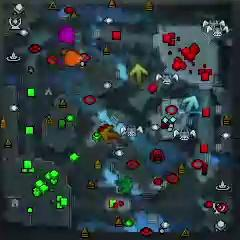p3: (57, 25, 76, 46)
p5: (63, 48, 83, 68)
x2: (130, 63, 147, 84)
x3: (183, 96, 198, 112)
x4: (116, 176, 134, 194)
x5: (100, 124, 120, 144)
